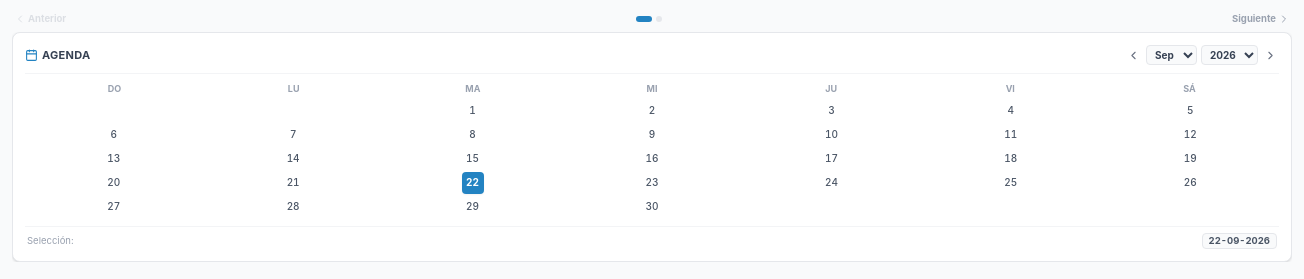
Test case: AgendaCarrusel › "Siguiente" lleva a la Hoja 2 con los datos de la fecha seleccionada
Click the button "Siguiente" at (1261, 19), box [1232,12,1290,26]
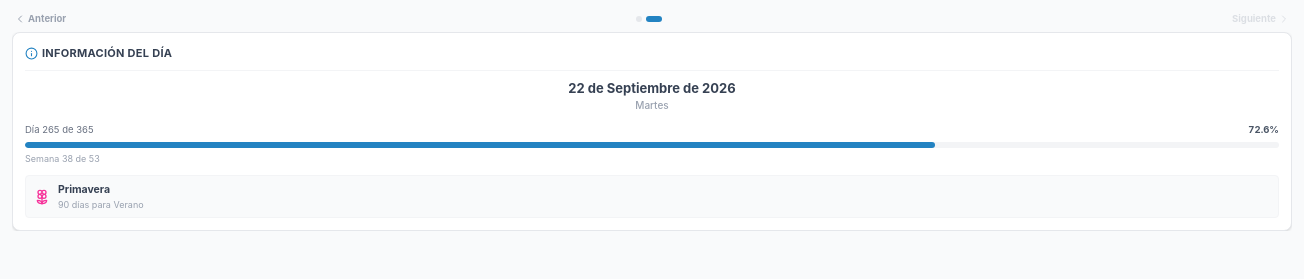
Expected: the text "22 de Septiembre de 2026" is shown, [568,80,736,96]
Expected: the text "Martes" is shown, [635,99,669,111]
Expected: the text "Día 265 de 365" is shown, [25,123,94,138]
